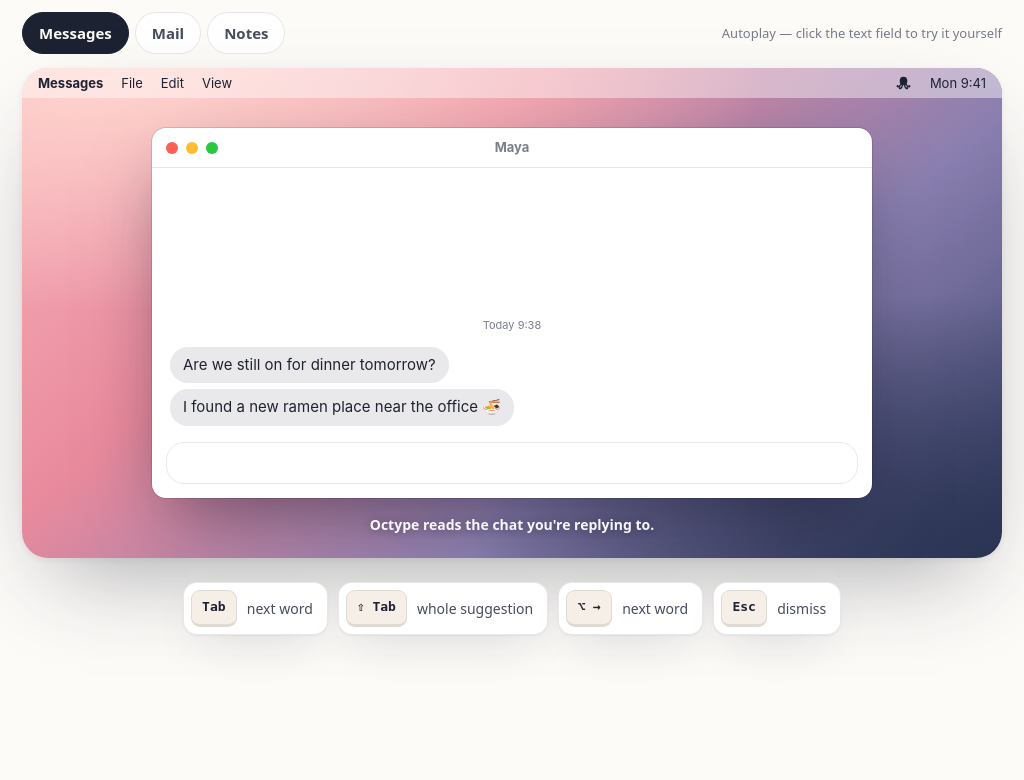
GhostDemo › switches to the Mail demo
Click the tab "Mail".
click(168, 33)  # box [135, 12, 201, 54]
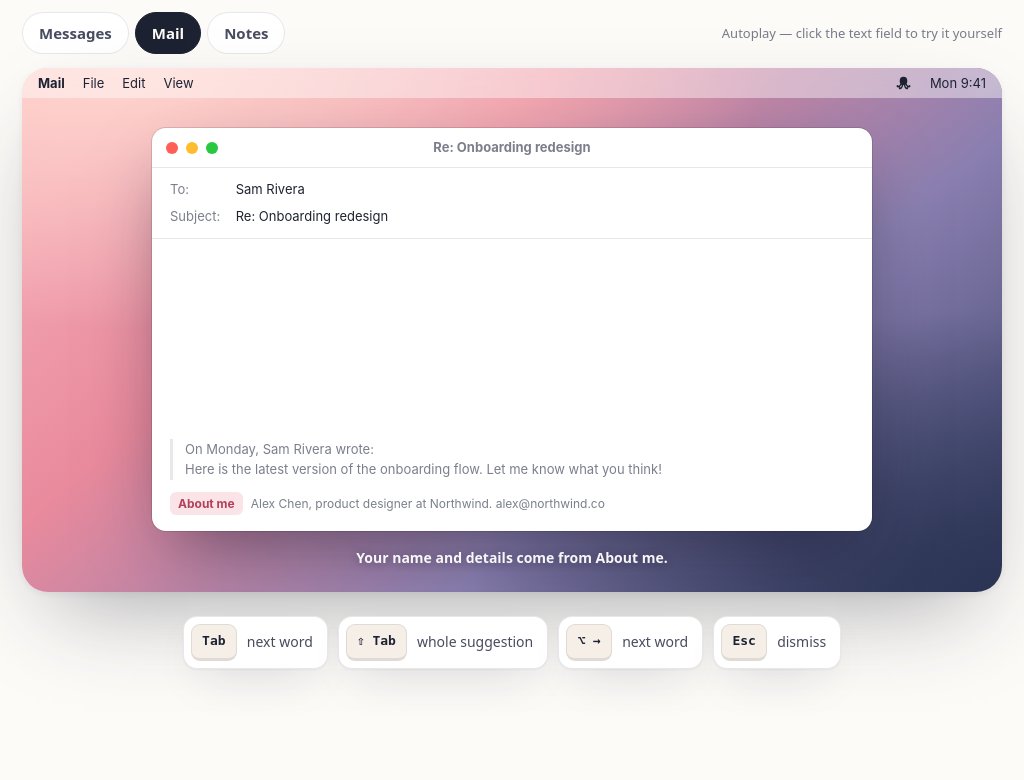
Result: the text "About me" is shown at [170, 492, 243, 515]
